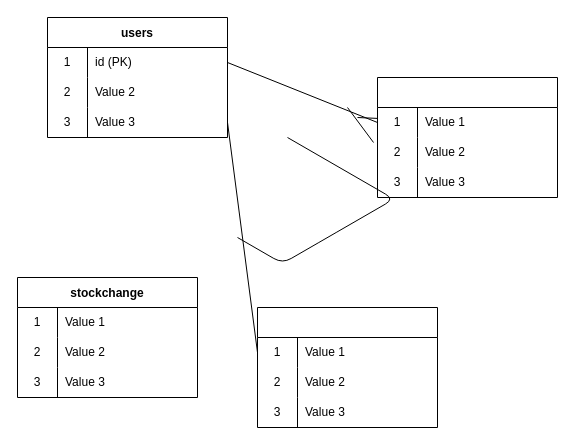
The diagram is 575 pixels wide and 445 high, and some of its shapes have lost their labels. Each missing label, with the box of its shape:
equip: (376, 76, 558, 198)
order: (256, 306, 438, 428)
